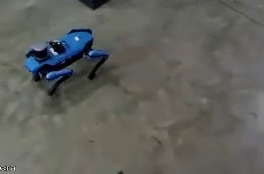robot dog: (19, 26, 115, 104)
